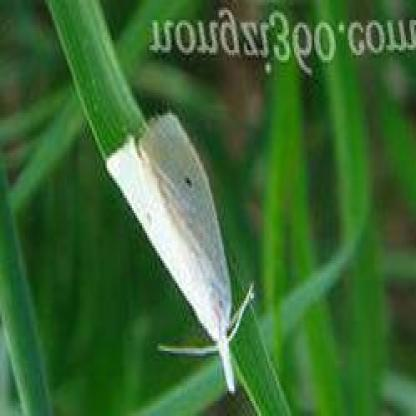stem-borer: (101, 104, 255, 400)
